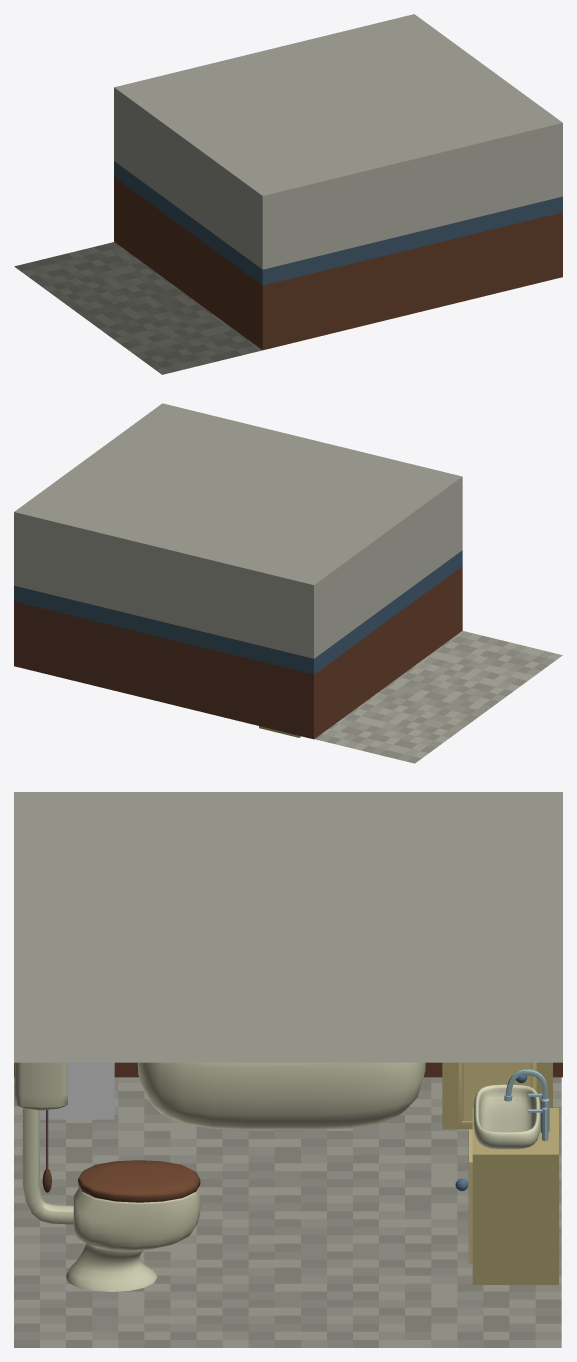
Rendered from Room_Bathroom.fbx.
3 views of the same model, one above another, from view 1: azimuth 30°, elevation 25°; view 2: azimuth 150°, elevation 25°; view 3: azimuth 270°, elevation 25° (orthographic). The views are drawn at different scales.
Parts seen in each view (by area): view 1: Room_Bathroom, Room_Kitchen9; view 2: Room_Bathroom, Room_Kitchen9; view 3: Room_Bathroom, Room_Kitchen7, Room_Kitchen8, pCube8, pCube49 (×2), TOilet, Toilet_Seat, pCube2, pCube47, Cupbaord_Door_07, Room_Kitchen9, pCube53 (+4 smaller).
Boxes of the visible parts, x1,y1,x2,y2 form: Room_Bathroom: (114, 14, 562, 350); Room_Kitchen9: (14, 242, 262, 374); Room_Bathroom: (14, 403, 462, 739); Room_Kitchen9: (314, 630, 562, 763); Room_Bathroom: (14, 792, 562, 1077); Room_Kitchen7: (14, 1227, 561, 1347); Room_Kitchen8: (14, 1107, 561, 1227); pCube8: (137, 1062, 425, 1129); pCube49 (×2): (442, 1062, 558, 1284); TOilet: (22, 1108, 200, 1291); Toilet_Seat: (78, 1160, 200, 1202); pCube2: (39, 1062, 114, 1119); pCube47: (14, 1062, 67, 1110); Cupbaord_Door_07: (458, 1062, 536, 1124); Room_Kitchen9: (14, 1077, 561, 1106); pCube53: (473, 1084, 507, 1124).
Bounding box in the file's own units: 934 × 355 × 600.
